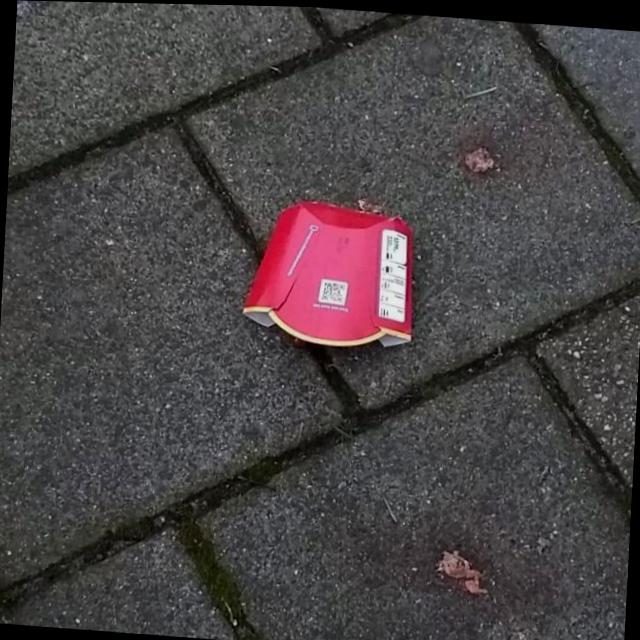Paper: (238, 189, 420, 351)
